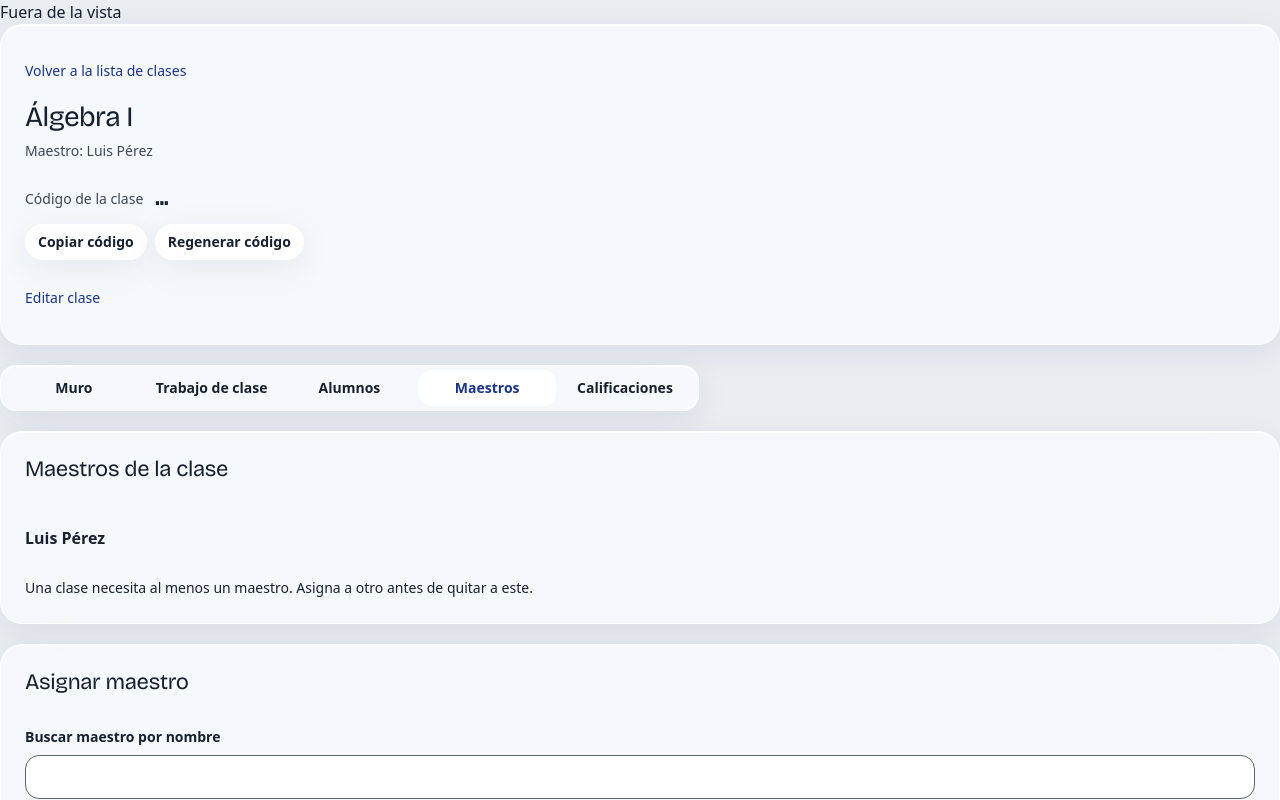
Scenario: ataque CLASES-02c r3: ClaseLayout y «Maestros de la clase» cuando la recarga falla › con el foco perdido, va al contenedor del error de ClaseLayout: tabIndex -1, el alerta dentro con su texto, y el único tope de Tab de la rama es «Volver a la li
Expected: the heading "Maestros de la clase" is shown, [25,456,228,482]
Step 1. Type "Mari" into the field labelled "Buscar maestro por nombre" → (640, 777), box [25,755,1255,799]
(page scrolled)
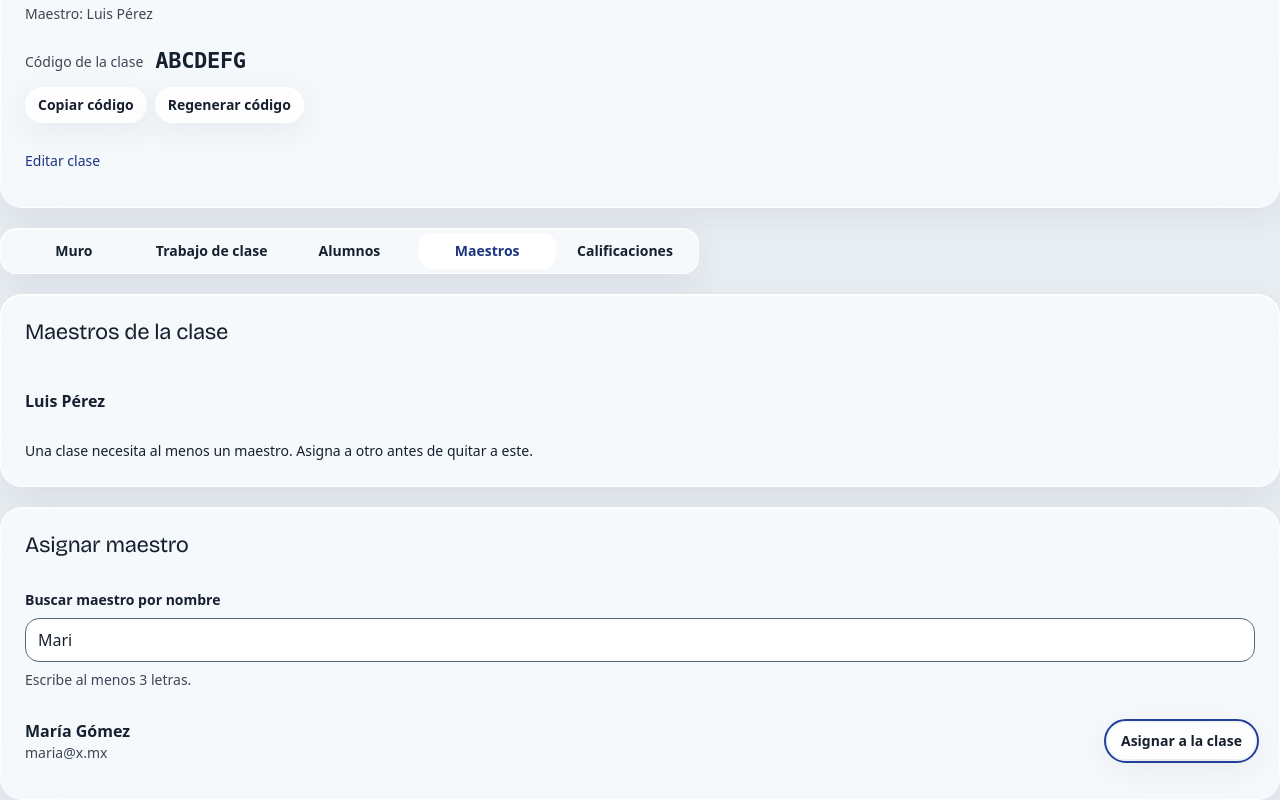
Step 2. Click the button named "Asignar a la clase María Gómez" → (1182, 741), box [1108,723,1255,759]
(page scrolled)
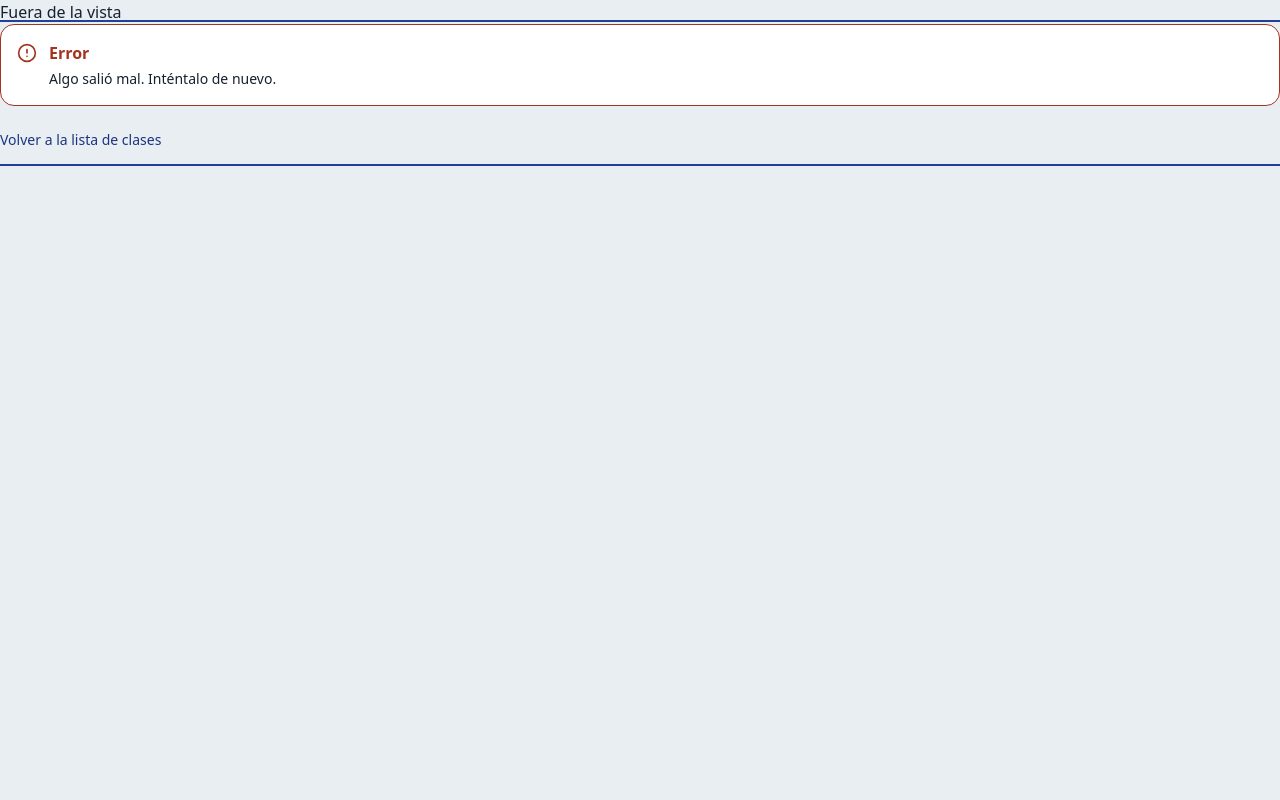
Result: the text "Algo salió mal. Inténtalo de nuevo." is shown at [49,69,276,89]
Result: the message shows "Algo salió mal. Inténtalo de nuevo." at [49,69,276,88]
